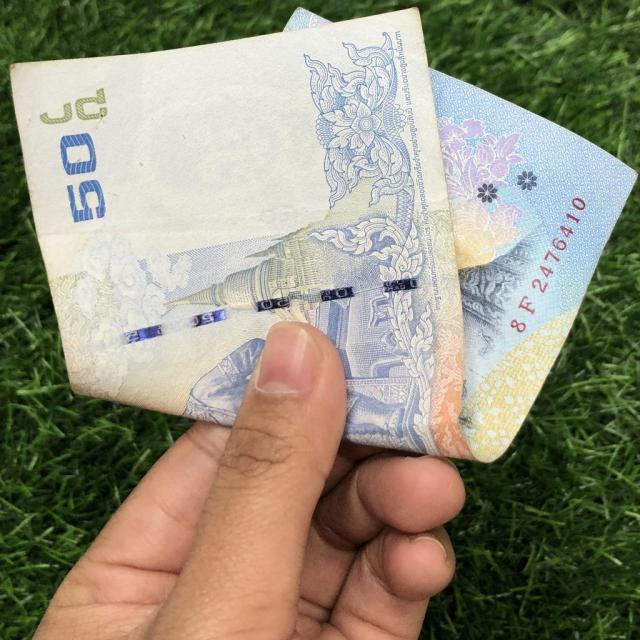THAI50: (11, 9, 635, 462)
